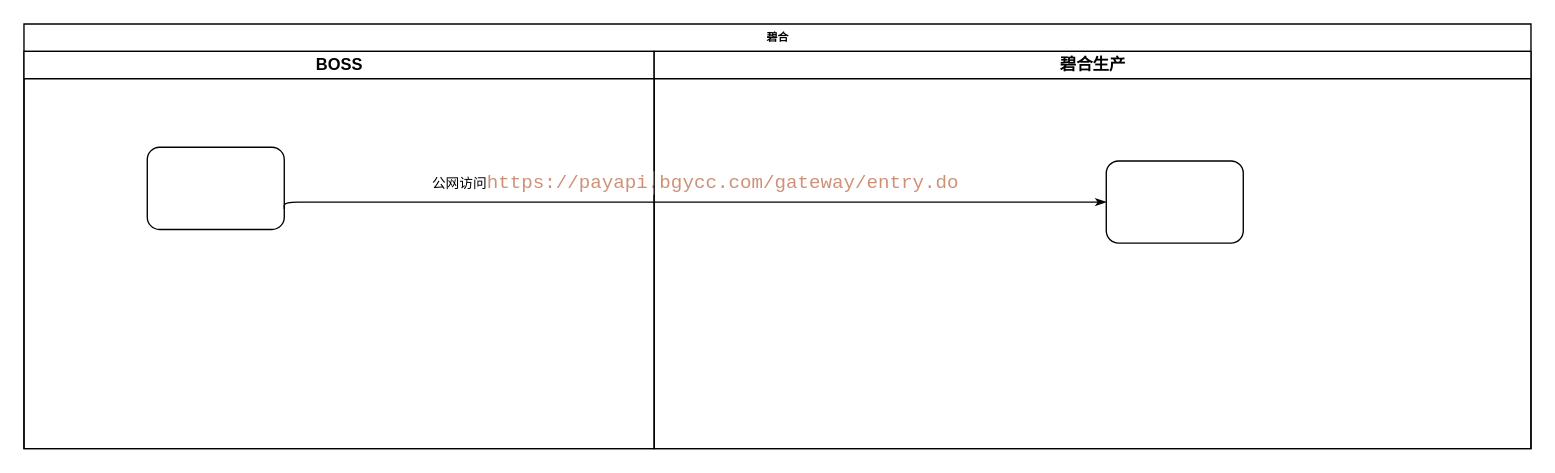
This 1555x473 diagram has some shape labels left out. Here are the shapes that lost their labels. From the top down, the centre of each, then its label:
[215,187]: BOSS生产环境
[1174,201]: 碧合生产环境
